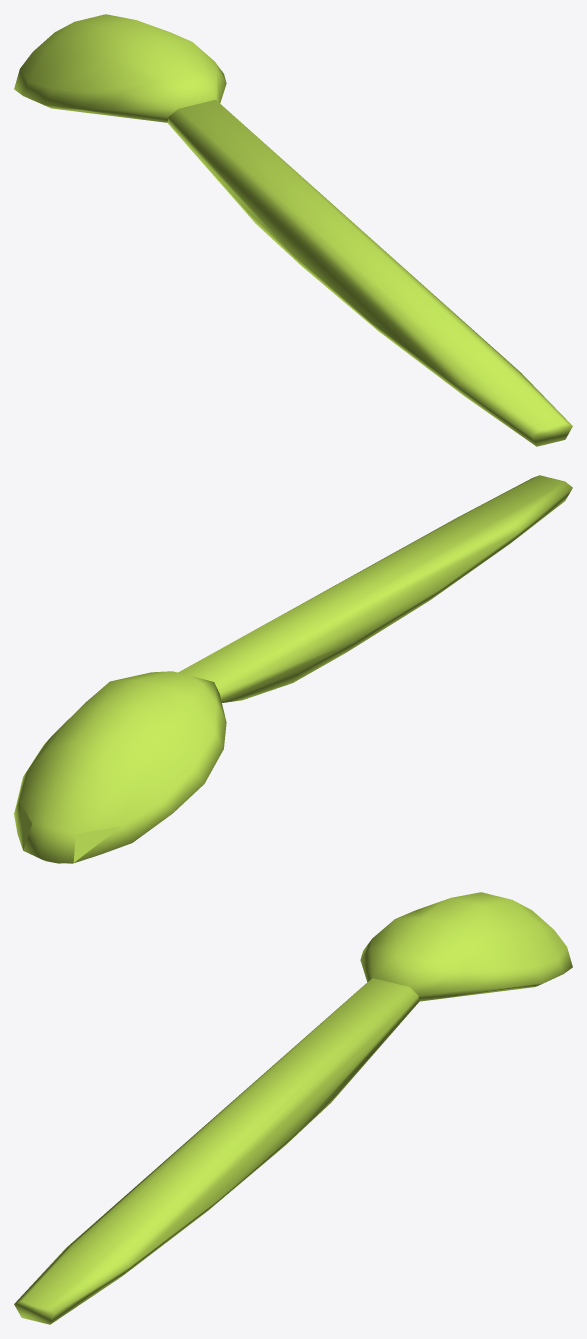
The model's file is Spoon_convex.fbx.
3 views of the same model, one above another, from view 1: azimuth 30°, elevation 25°; view 2: azimuth 150°, elevation 25°; view 3: azimuth 330°, elevation 25° (orthographic).
Visible parts, largest first — view 1: Spoon_convex, Spoon_convex.001; view 2: Spoon_convex.001, Spoon_convex; view 3: Spoon_convex, Spoon_convex.001.
Boxes of the visible parts, box(x1,y1,x2,y2) form: Spoon_convex: box(167, 99, 572, 446); Spoon_convex.001: box(14, 14, 226, 122); Spoon_convex.001: box(14, 671, 226, 863); Spoon_convex: box(178, 475, 572, 702); Spoon_convex: box(14, 978, 419, 1324); Spoon_convex.001: box(360, 892, 572, 1001).
Size of the model in its own units: 0.9733 by 5.34 by 0.616.
